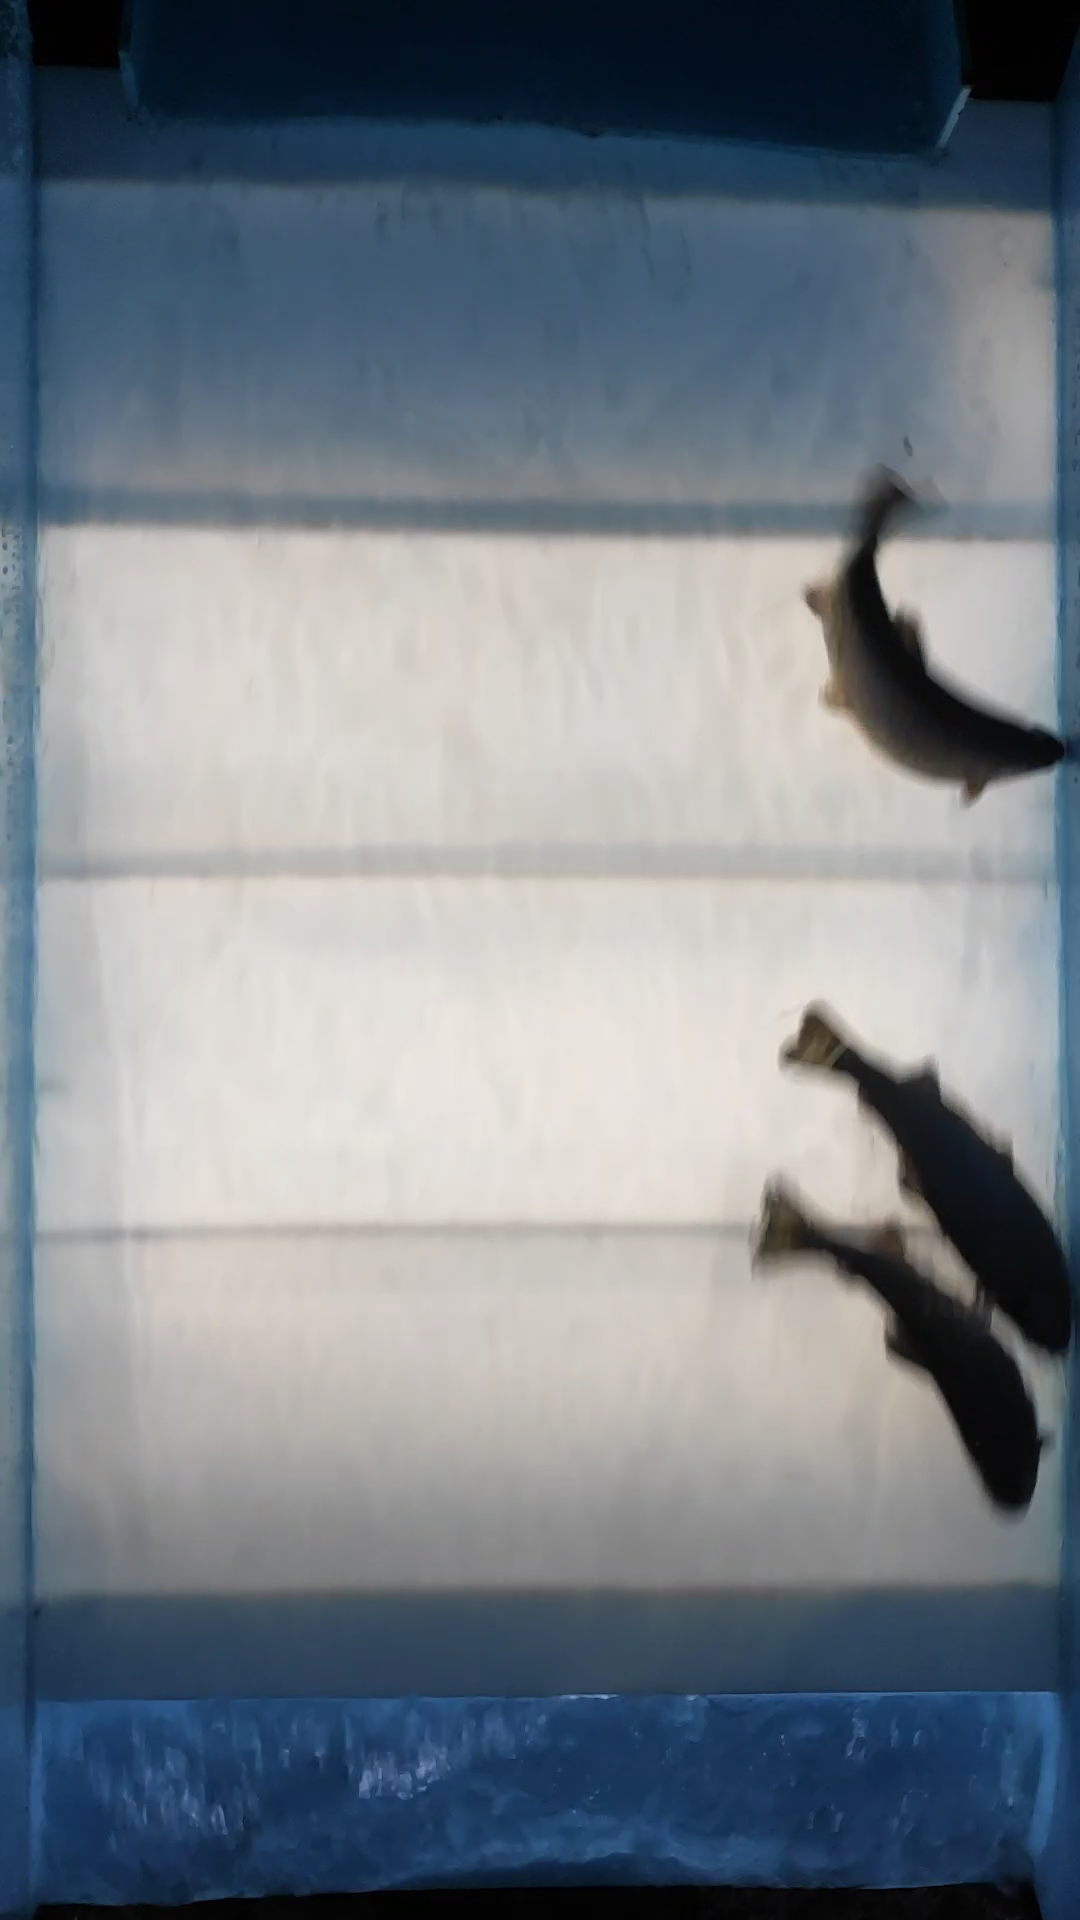fish: (748, 1168, 1057, 1533), (772, 1001, 1080, 1366), (792, 462, 1072, 818)
